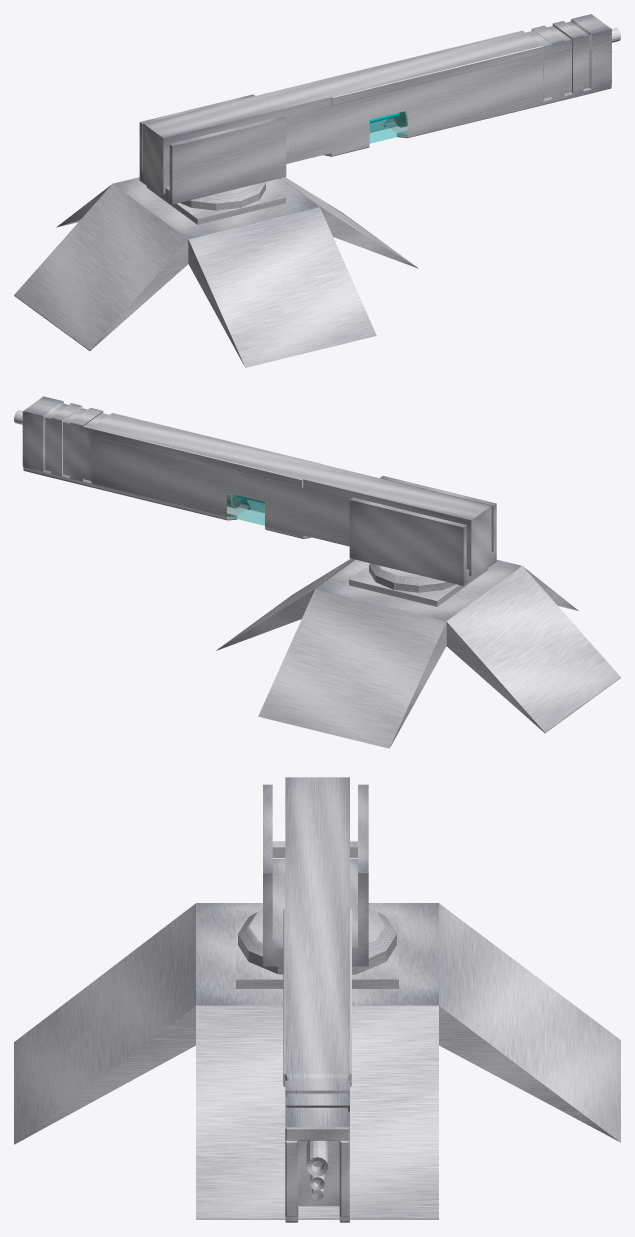
The model's file is Turret 3.fbx.
3 renders of one model, top to bottom at view 1: azimuth 30°, elevation 25°; view 2: azimuth 150°, elevation 25°; view 3: azimuth 270°, elevation 25°, orthographic. The views are drawn at different scales.
Visible parts, largest first — view 1: pCube4, pCylinder6; view 2: pCube4, pCylinder6; view 3: pCube4, pCylinder6.
Part boxes in pixels (box(x1,y1,x2,y2)): pCube4: box(14, 177, 418, 367); pCylinder6: box(139, 14, 620, 204); pCube4: box(216, 558, 620, 748); pCylinder6: box(14, 396, 496, 585); pCube4: box(14, 903, 620, 1219); pCylinder6: box(263, 777, 368, 1222).
Size of the model in its own units: 4.3 by 1.22 by 2.5.
7 materials, 2 textured.
